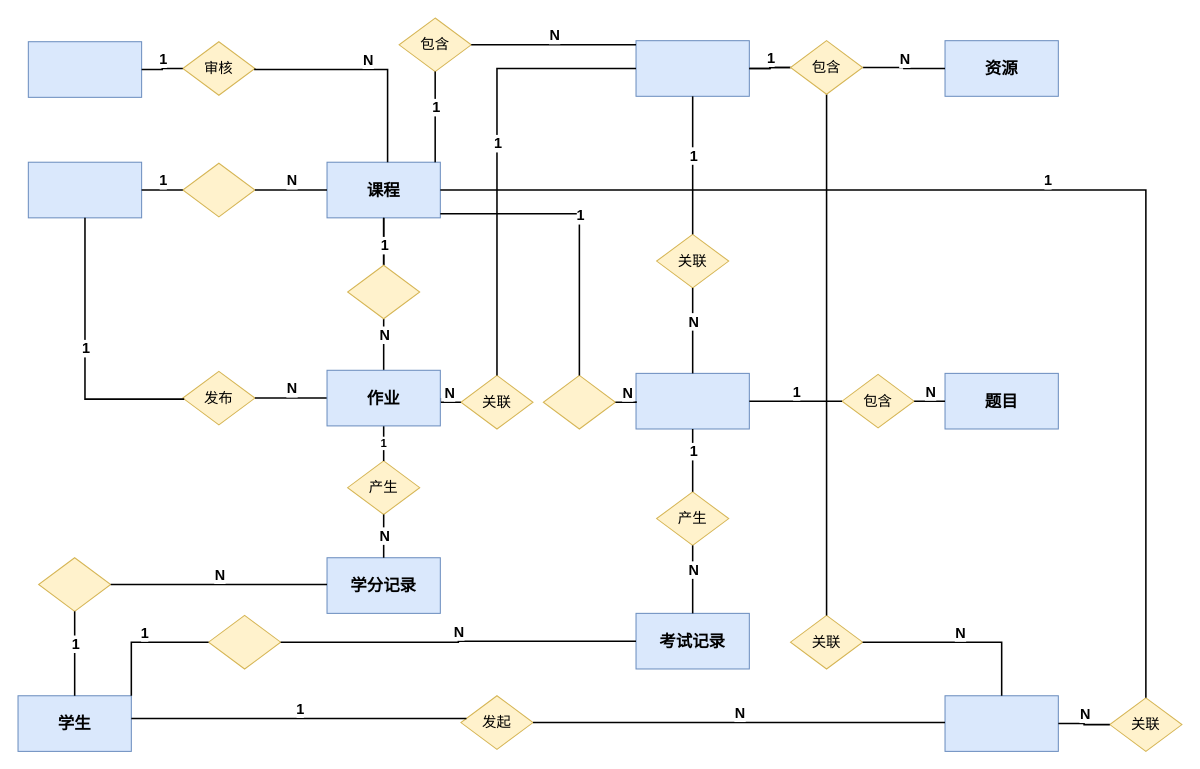
Image size: 1200x769. Some labels were removed from this diagram. Here are the shapes that lost their labels. From the top down, the box of each, then its label:
(27, 41, 142, 97): 管理员
(635, 40, 749, 96): 章节
(27, 161, 142, 218): 教师
(182, 162, 255, 217): 开设
(347, 264, 420, 319): 布置
(542, 374, 615, 429): 安排
(635, 372, 749, 429): 考试
(38, 557, 111, 611): 获得
(208, 614, 281, 669): 参加
(944, 695, 1058, 751): AI会话
